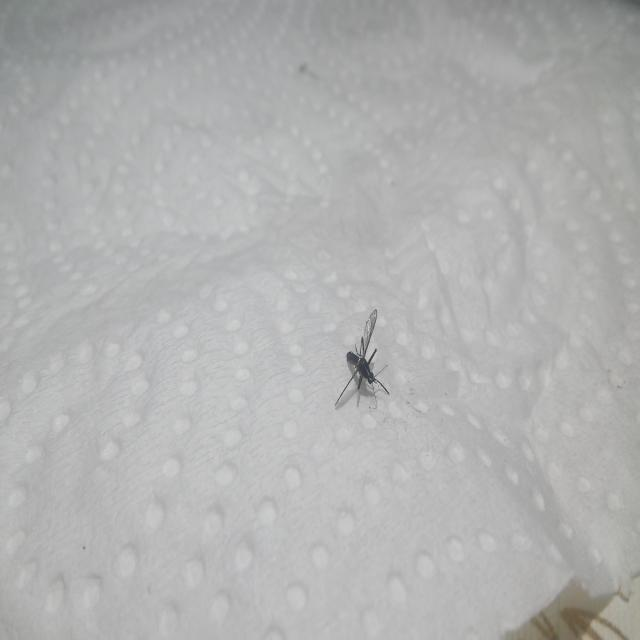albopictus: (335, 305, 392, 413)
